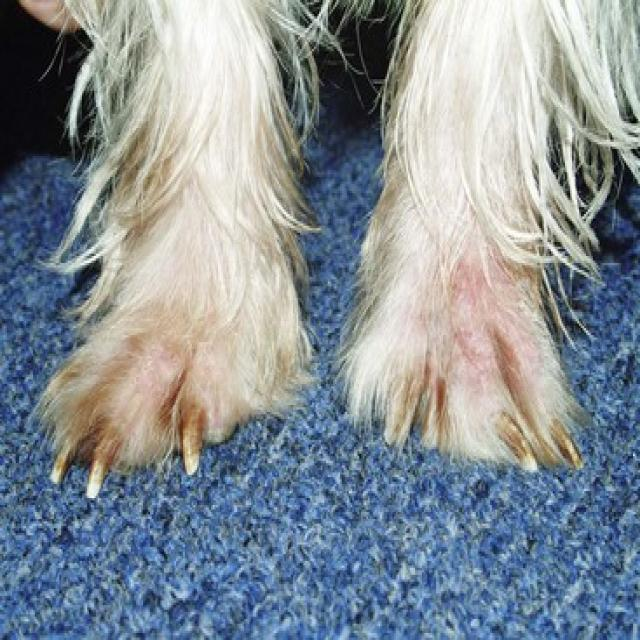fungal infection: (385, 212, 544, 445), (62, 278, 254, 466)
